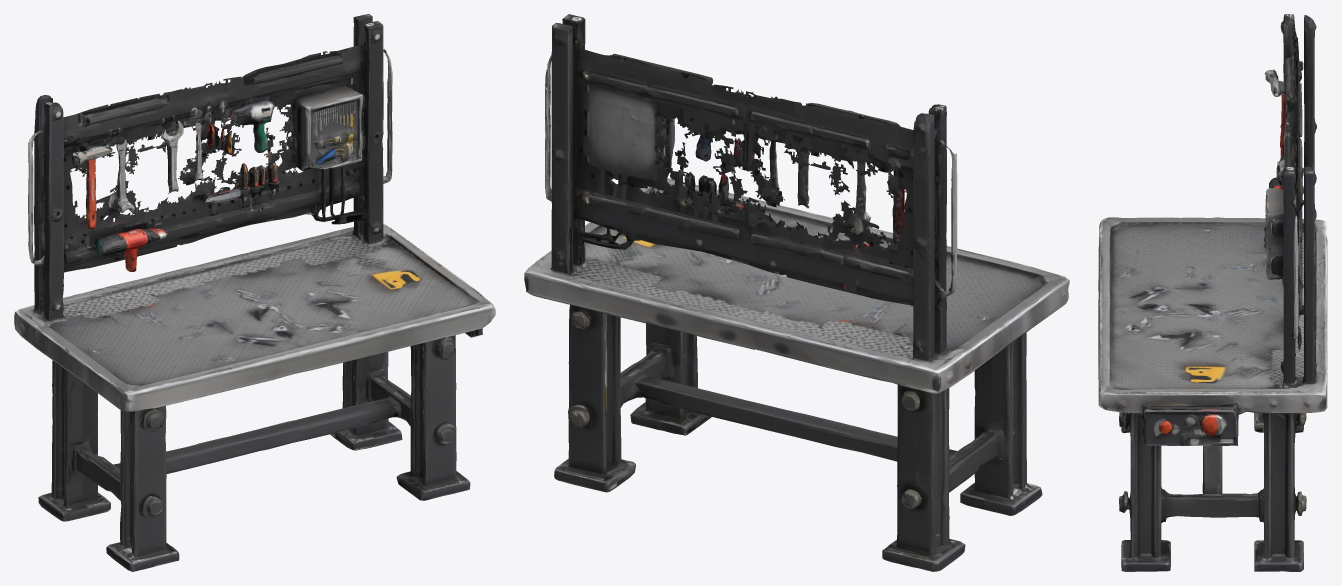
File: maintenance.glb
3 renders of one model, left to right at view 1: azimuth 30°, elevation 25°; view 2: azimuth 150°, elevation 25°; view 3: azimuth 270°, elevation 25°, orthographic. The views are drawn at different scales.
Visible parts, largest first — view 1: output_unwrapped; view 2: output_unwrapped; view 3: output_unwrapped.
Part boxes in pixels (x1,y1,x2,y2): output_unwrapped: (14,14,495,571); output_unwrapped: (524,14,1069,571); output_unwrapped: (1098,14,1327,571).
Size of the model in its own units: 1.91 by 1.91 by 0.999.
Materials: 1 (1 with a texture image).
